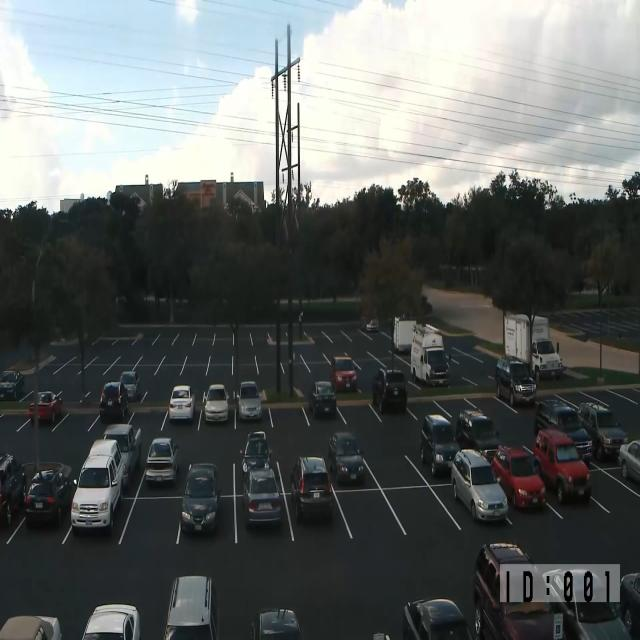car: (473, 542, 632, 640), (71, 439, 126, 535), (533, 428, 592, 504), (451, 448, 508, 523), (534, 398, 594, 464), (491, 444, 546, 510), (163, 575, 219, 639), (577, 400, 628, 460), (180, 462, 221, 535), (402, 598, 473, 639), (290, 455, 333, 522), (24, 467, 72, 527), (562, 601, 632, 639), (420, 414, 460, 477), (102, 424, 142, 487), (410, 325, 450, 387), (242, 466, 282, 526), (456, 409, 500, 459), (81, 603, 140, 639), (495, 356, 536, 407), (88, 438, 127, 488), (328, 431, 364, 485), (0, 452, 26, 526), (250, 608, 303, 640), (372, 366, 407, 414), (145, 436, 179, 484), (0, 615, 62, 640), (240, 430, 272, 478), (618, 572, 640, 639), (532, 338, 562, 380), (99, 381, 129, 422), (28, 390, 63, 424), (330, 355, 358, 393), (308, 381, 336, 418), (168, 385, 196, 422), (237, 380, 262, 421), (204, 383, 229, 422), (618, 438, 640, 482), (0, 369, 24, 400), (119, 371, 139, 402), (366, 318, 379, 332), (373, 632, 390, 640)
